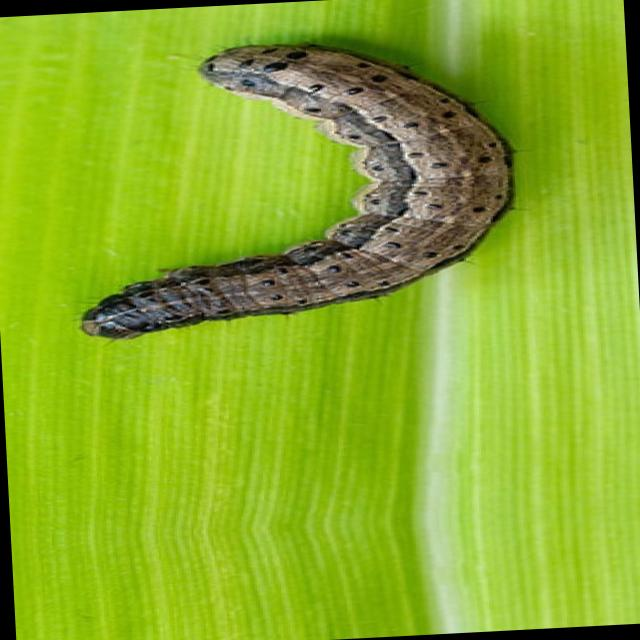Armyworm: (1, 15, 563, 372)
